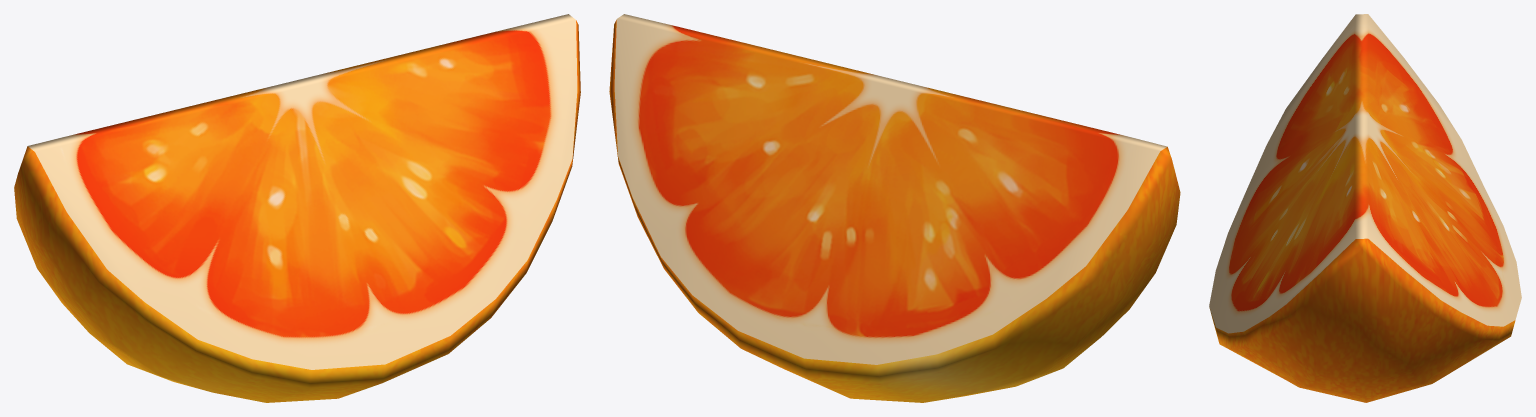
File: Orange_Quarter.fbx
3 renders of one model, left to right at view 1: azimuth 30°, elevation 25°; view 2: azimuth 150°, elevation 25°; view 3: azimuth 270°, elevation 25°, orthographic. The views are drawn at different scales.
Parts seen in each view (by area): view 1: Orange_Quarter; view 2: Orange_Quarter; view 3: Orange_Quarter.
Boxes of the visible parts, box(x1,y1,x2,y2) form: Orange_Quarter: box(14, 14, 580, 402); Orange_Quarter: box(609, 14, 1180, 402); Orange_Quarter: box(1209, 14, 1521, 402).
Bounding box in the file's own units: 38.49 × 19.9 × 22.06.
1 material, 1 textured.
